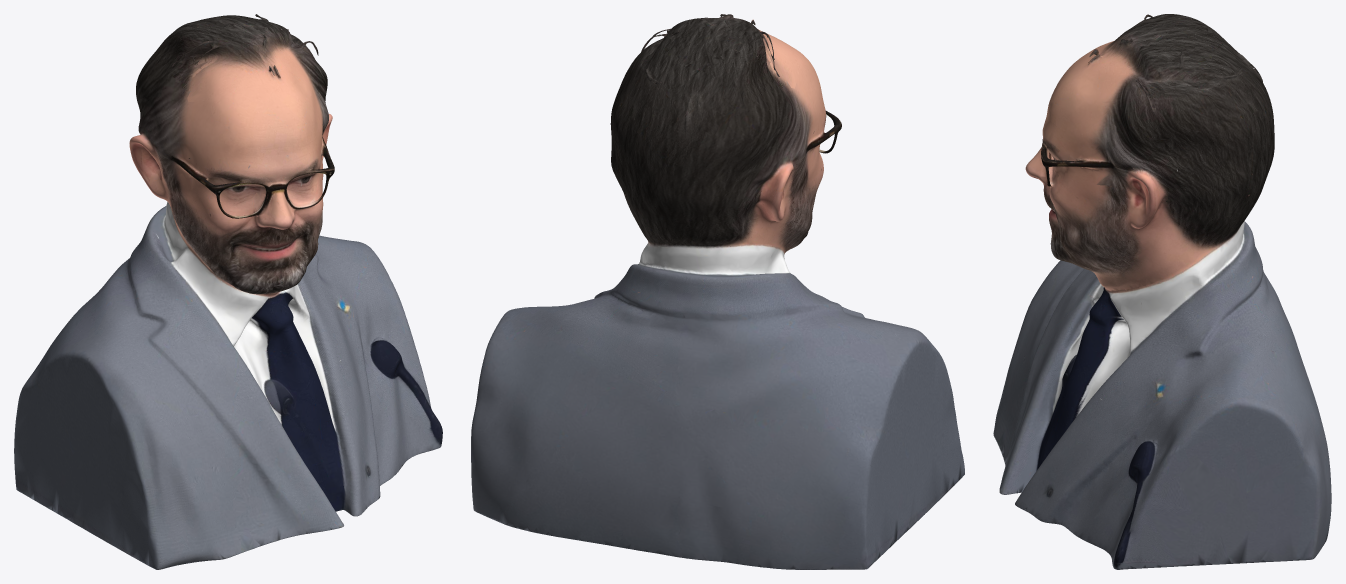
3 renders of one model, left to right at view 1: azimuth 30°, elevation 25°; view 2: azimuth 150°, elevation 25°; view 3: azimuth 270°, elevation 25°, orthographic. The views are drawn at different scales.
Visible parts, largest first — view 1: Mesh_0; view 2: Mesh_0; view 3: Mesh_0.
Part boxes in pixels (x1,y1,x2,y2): Mesh_0: (14, 14, 442, 569); Mesh_0: (471, 14, 964, 569); Mesh_0: (993, 14, 1331, 569).
Bounding box in the file's own units: 1.61 × 1.9 × 1.28.
Materials: 1 (1 with a texture image).
